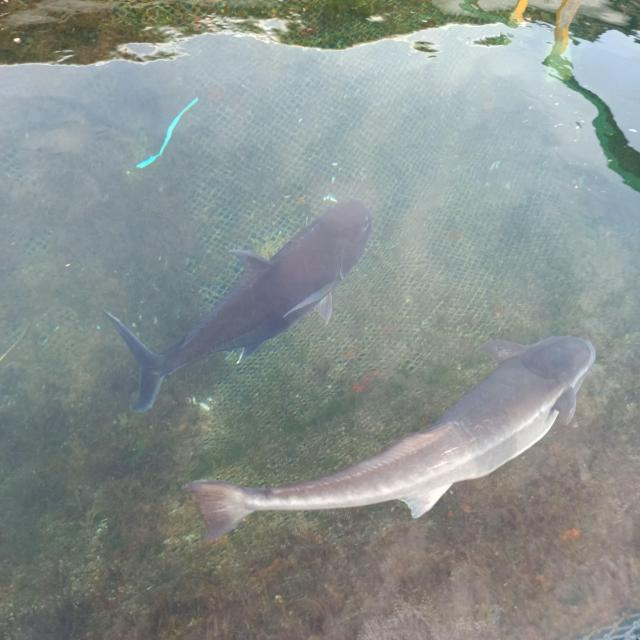ikan: (180, 332, 596, 546), (102, 195, 373, 414)
